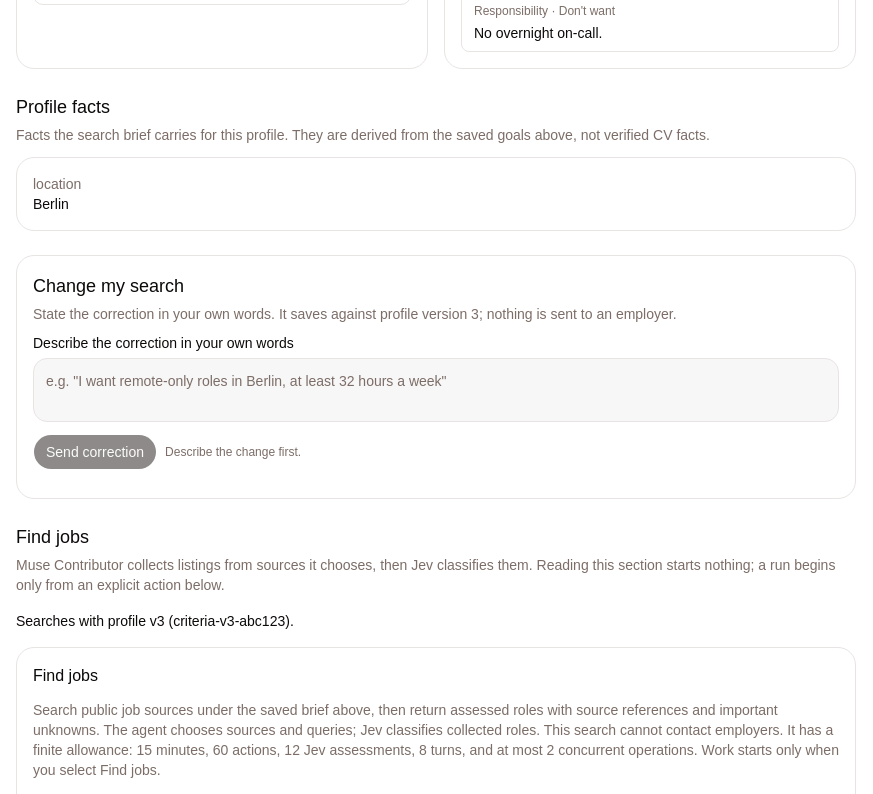
Test: owner corrections (RW-B1) › saves a correction only after the readback confirms the new version
(page scrolled)
Replace the text in the text box labelled "Describe the correction in your own words" with "I want remote-only roles." at {"x": 436, "y": 390}, box [33,358,839,422]
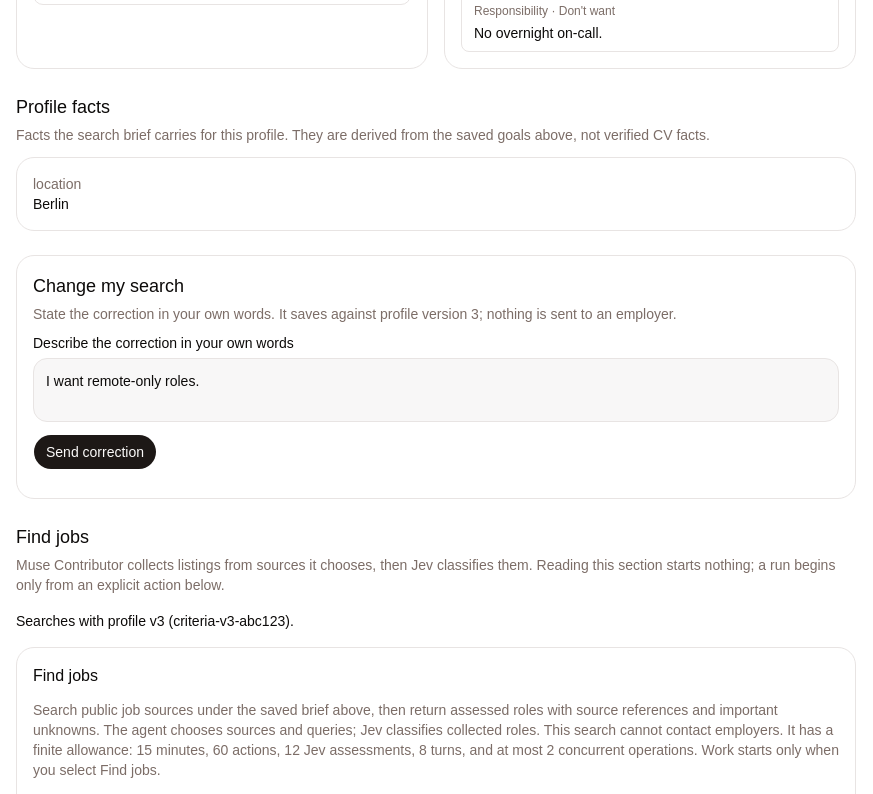
Click the button "Send correction".
click(95, 452)  # box [33,434,157,470]
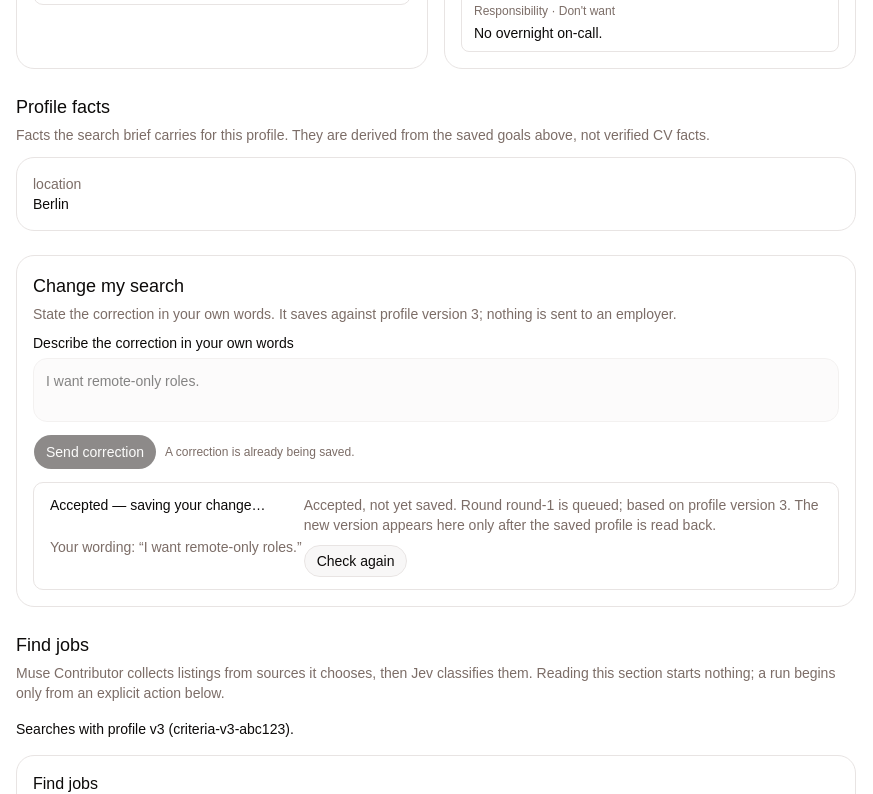
Expected: the text "Saved as profile version" is not shown
Expected: the text "Accepted — saving your change…" is shown, [50,496,266,512]
Click the button "Check again".
click(356, 560)  # box [304,544,407,576]
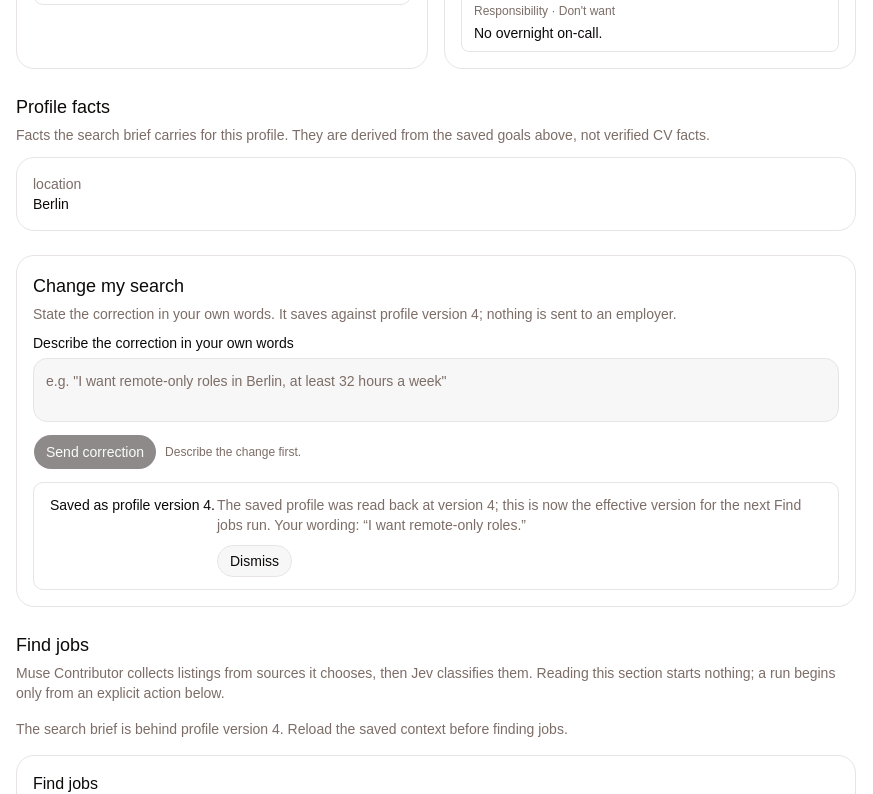
Expected: the text "Saved as profile version 4." is shown, [50,496,215,512]
Expected: the text box labelled "Describe the correction in your own words" is empty, [33,358,839,422]
